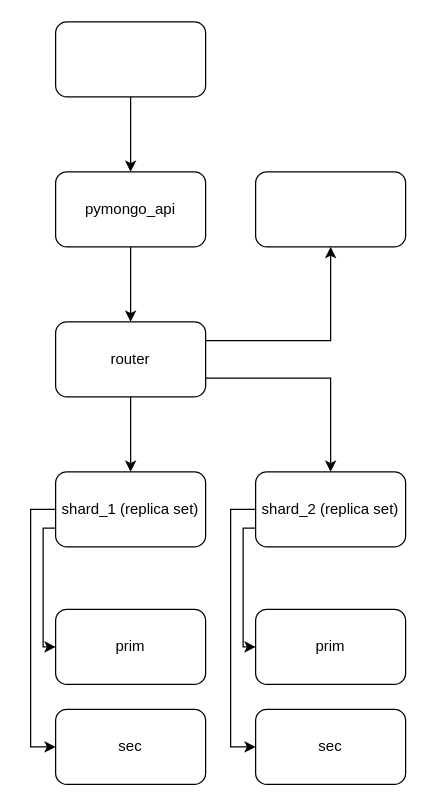
Some shapes in this 428 by 806 pixel diagram are drawn without their labels. Each missing label, with the box of its shape:
configSrv: (254, 171, 406, 247)
Клиент: (54, 21, 206, 97)
